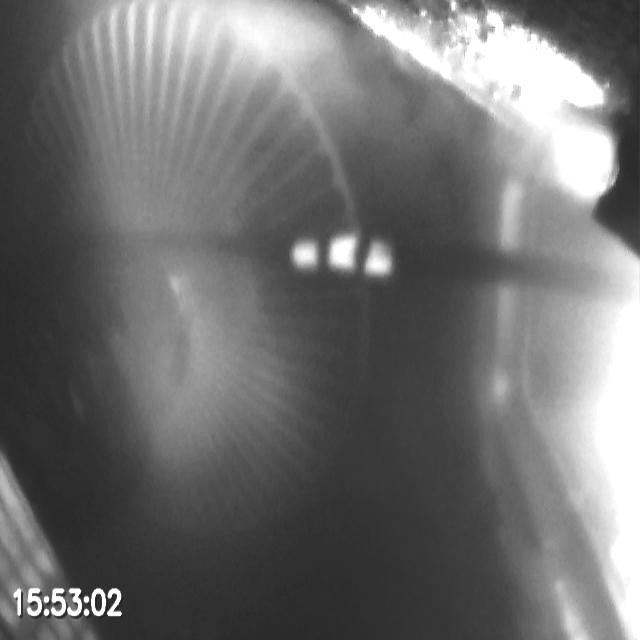white-dots: (286, 231, 394, 279)
